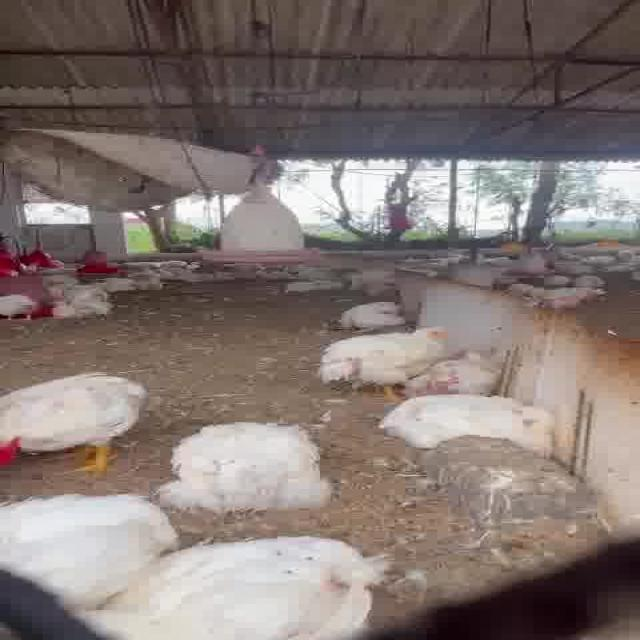AbNormal: (126, 536, 372, 634), (6, 492, 172, 602), (171, 416, 332, 513), (390, 394, 546, 439), (408, 348, 511, 394), (337, 298, 418, 332)
Normal: (6, 368, 151, 481), (318, 324, 453, 392)
